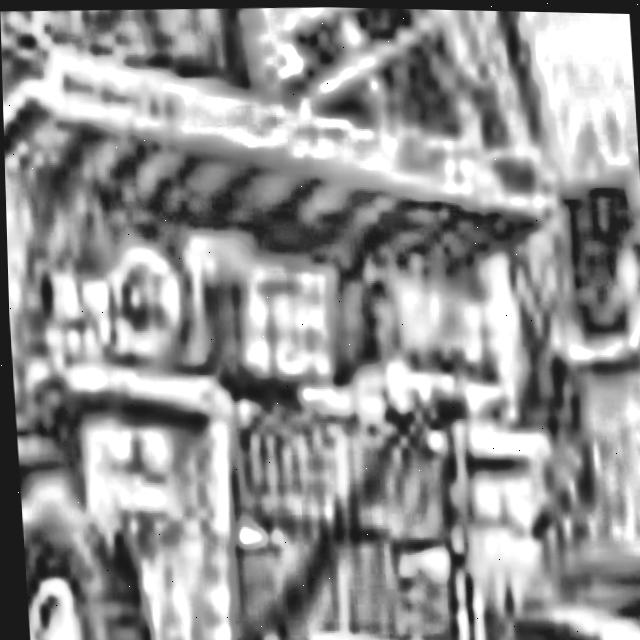dump_truck: (1, 30, 605, 640)
